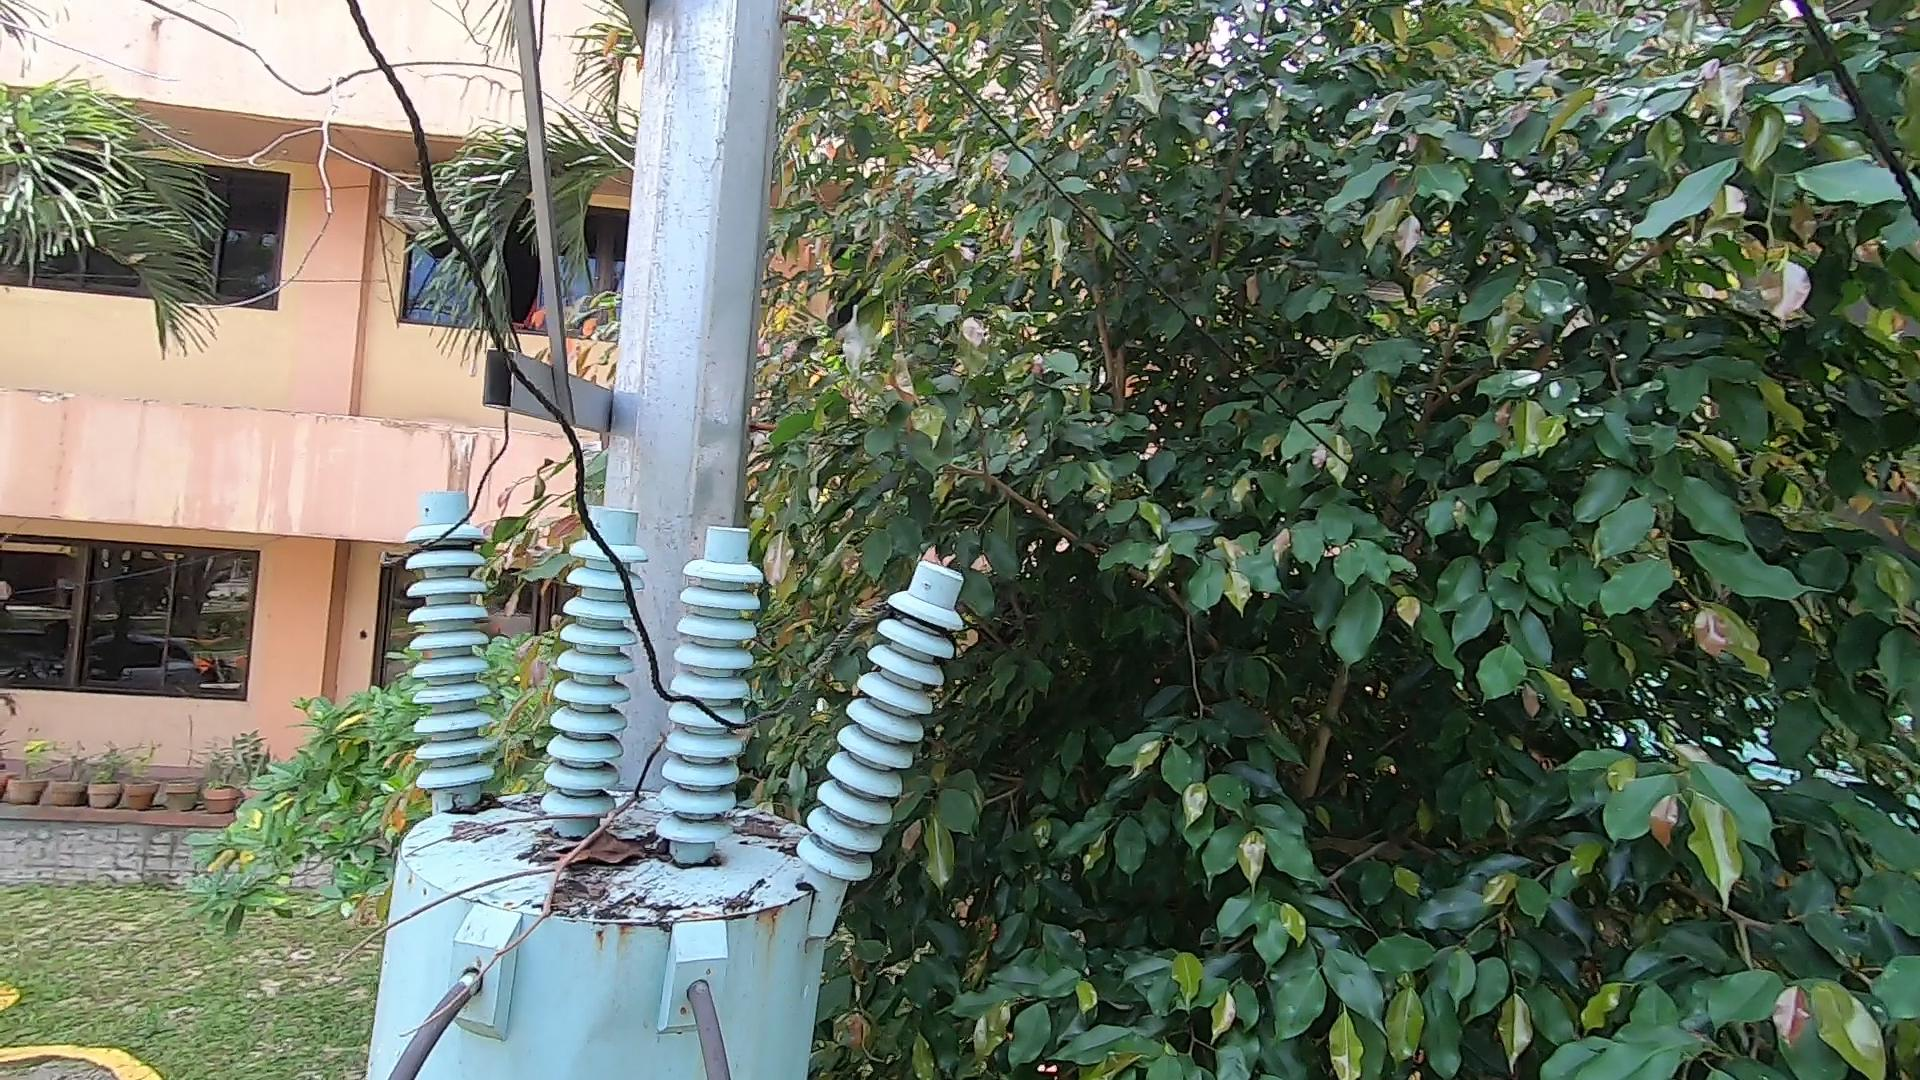leaf: (531, 828, 669, 877), (736, 803, 800, 855), (431, 796, 512, 818)
tree branch: (322, 735, 702, 1080)
